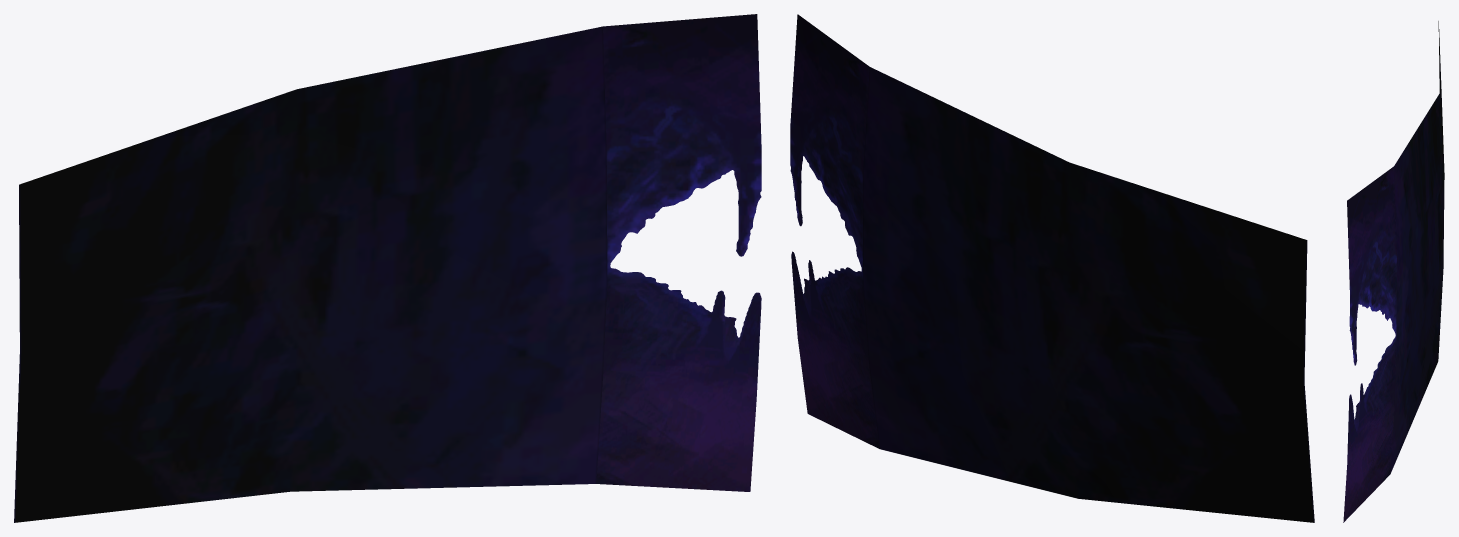
Rendered from SWORDLIGHT20_PS-AREA05-RANGE01_04.fbx.
The picture shows the model from 3 angles, left to right: view 1: azimuth 30°, elevation 25°; view 2: azimuth 150°, elevation 25°; view 3: azimuth 270°, elevation 25°; orthographic projection. The views are drawn at different scales.
Parts seen in each view (by area): view 1: SWORDLIGHT20_PS-AREA05-RANGE01_04; view 2: SWORDLIGHT20_PS-AREA05-RANGE01_04; view 3: SWORDLIGHT20_PS-AREA05-RANGE01_04.
Boxes of the visible parts, box(x1,y1,x2,y2) form: SWORDLIGHT20_PS-AREA05-RANGE01_04: box(14, 14, 761, 522); SWORDLIGHT20_PS-AREA05-RANGE01_04: box(790, 14, 1314, 522); SWORDLIGHT20_PS-AREA05-RANGE01_04: box(1343, 21, 1444, 522).
Bounding box in the file's own units: 297156 × 196479 × 55346.
3 materials, 3 textured.
